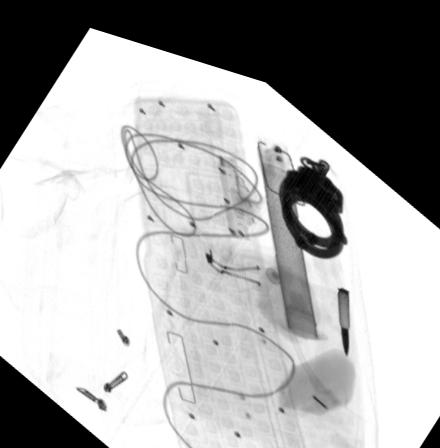Bullet: (339, 267, 351, 336)
HandCuffs: (275, 138, 348, 242)
